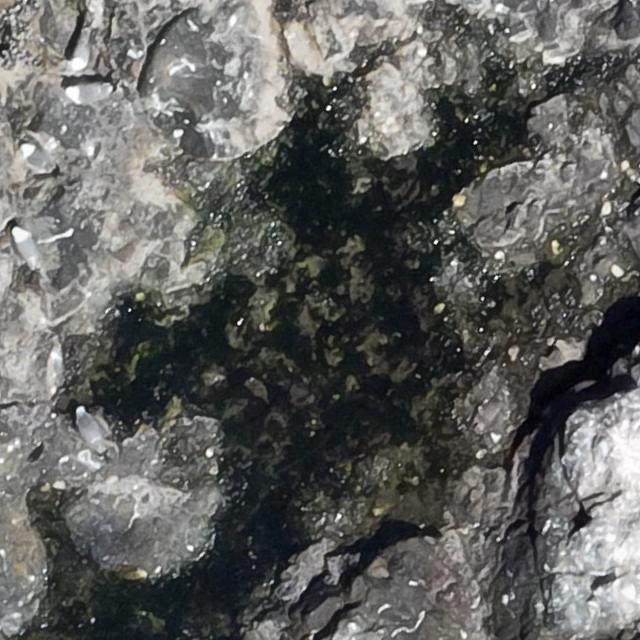umineko: (74, 402, 108, 457), (12, 225, 42, 272), (68, 32, 92, 74), (22, 145, 51, 170), (69, 83, 106, 102)
